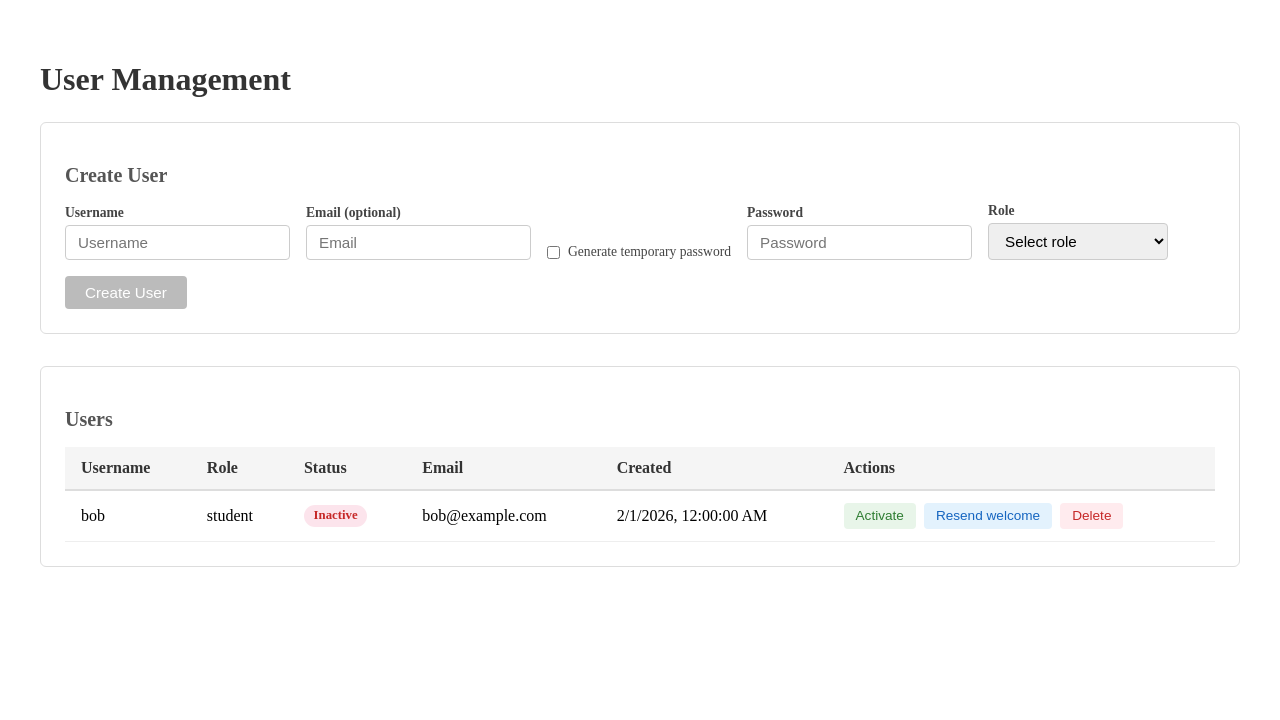
Test: UserManagementView › activate button POSTs to correct endpoint and updates is_active locally
Click the button with class "activate-btn" at (880, 516), box [844,503,916,529]
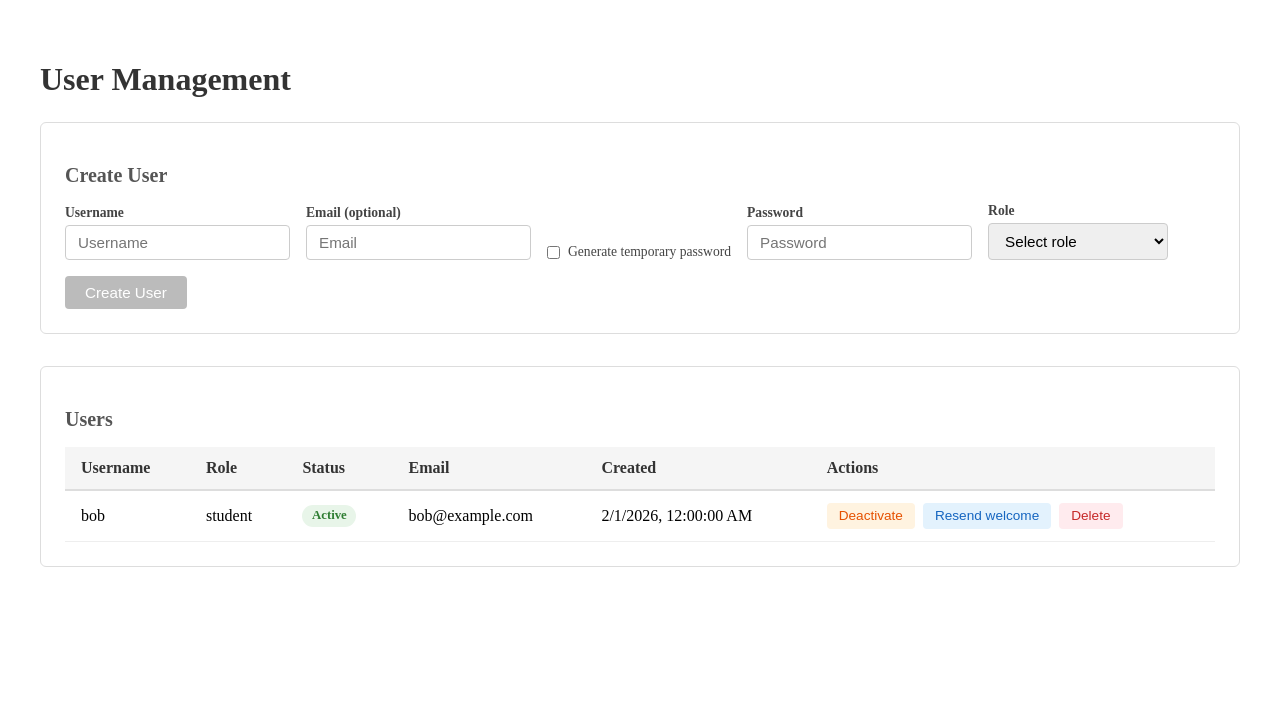
Check: the text with class "status-badge" reads "Active", box [312,508,347,522]
